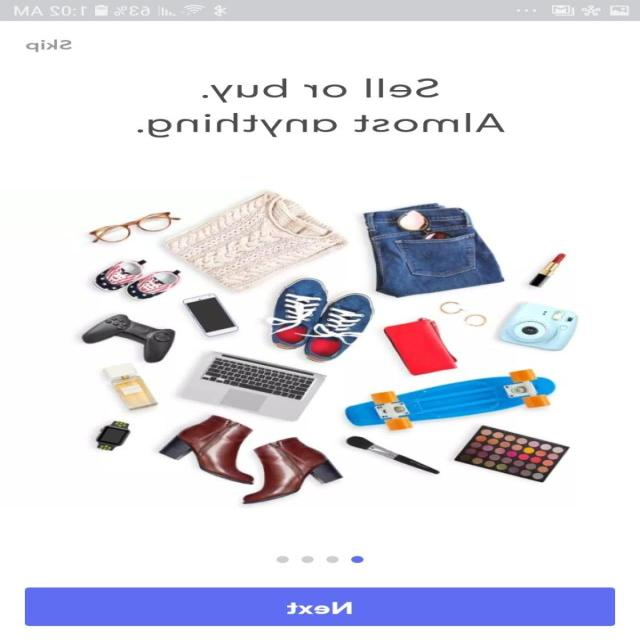Image: (80, 188, 580, 505)
Text: (138, 112, 506, 138), (202, 78, 440, 103), (26, 39, 74, 52)
TextButton: (26, 586, 616, 626)
